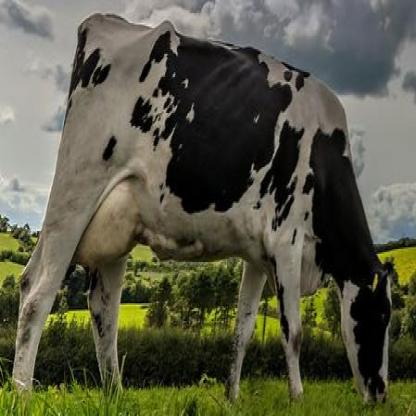cow: (14, 14, 396, 407)
